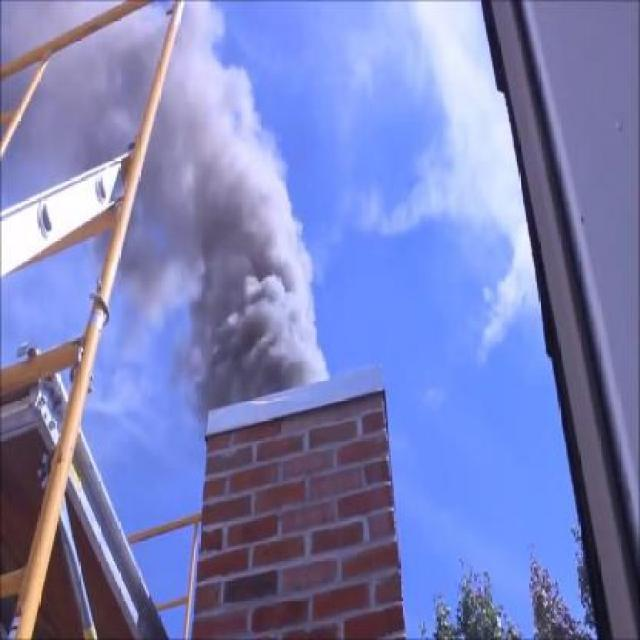smoke: (173, 81, 339, 374)
